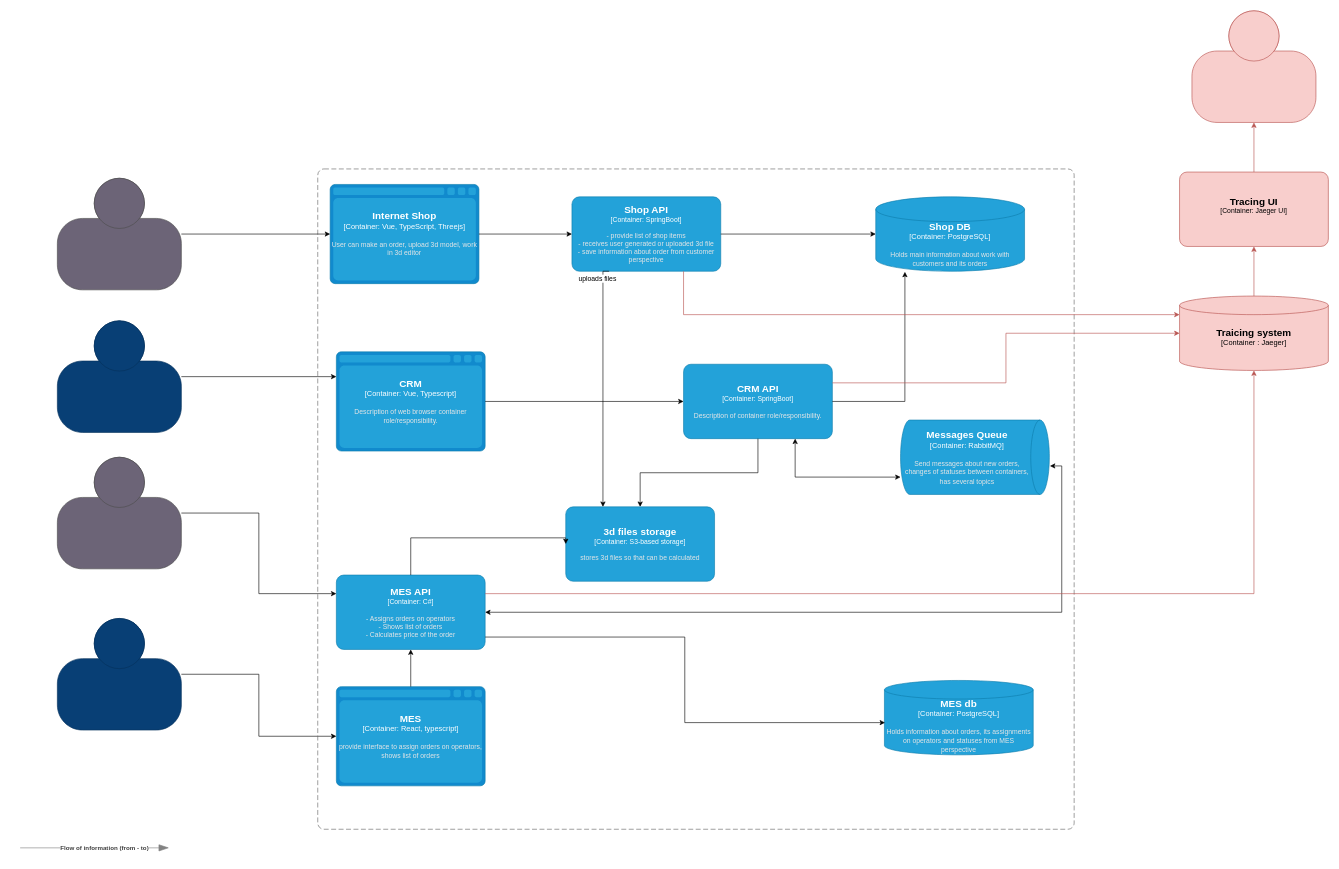
This 1339x869 diagram has some shape labels left out. The shapes that lost their labels are listed below. From the top down, each one's box as (x1, y1, x2, y2) in pixels, then its label:
(1191, 10, 1316, 122): Administrator [Person] Description of person.
(57, 178, 181, 290): Customer [Person] Description of external person.
(57, 320, 181, 432): Seller [Person] Operates with order, confirms manufacturing for the user
(57, 457, 181, 569): API user [Person] Description of external person.
(317, 168, 1074, 829): Jewerly Store System [Software System]
(57, 618, 181, 730): Operator [Person] Takes order in work, manufactures jewerly
